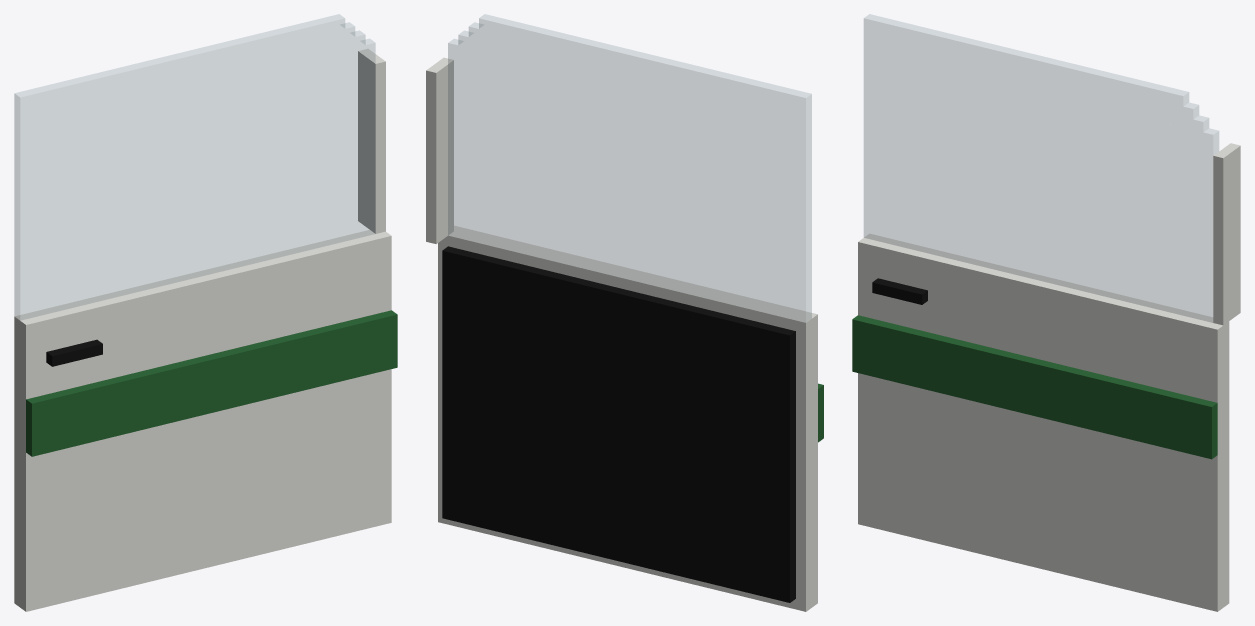
Rendered from animal_control_van_front_door.glb.
3 views of the same model, side by side, from view 1: azimuth 30°, elevation 25°; view 2: azimuth 150°, elevation 25°; view 3: azimuth 330°, elevation 25° (orthographic). The views are drawn at different scales.
Visible parts, largest first — view 1: body:compound; view 2: body:compound; view 3: body:compound.
Boxes of the visible parts, <box> form: body:compound: <box>14,14,397,611</box>; body:compound: <box>426,14,823,611</box>; body:compound: <box>852,14,1240,611</box>.
Size of the model in its own units: 1.12 by 1.5 by 0.1562.
